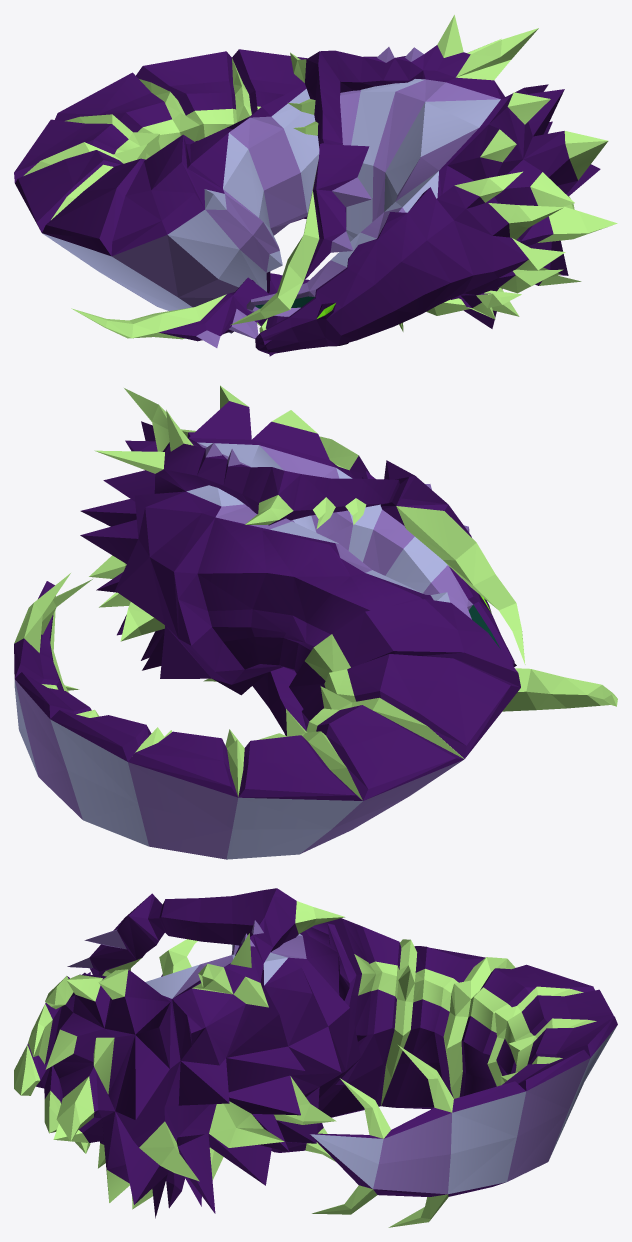
Rendered from Dead (21).obj.
3 views of the same model, one above another, from view 1: azimuth 30°, elevation 25°; view 2: azimuth 150°, elevation 25°; view 3: azimuth 270°, elevation 25° (orthographic). The views are drawn at different scales.
Visible parts, largest first — view 1: Alien_Serpent; view 2: Alien_Serpent; view 3: Alien_Serpent.
Part boxes in pixels (x1,y1,x2,y2): Alien_Serpent: (14,15,617,356); Alien_Serpent: (14,385,617,859); Alien_Serpent: (14,888,617,1227).
Bounding box in the file's own units: 239 × 140 × 245.
1 material, 1 textured.
